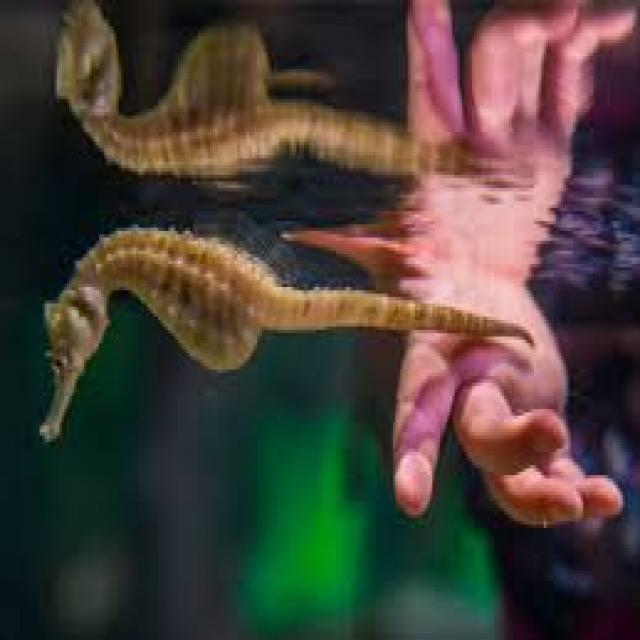SeaHorse: (39, 228, 534, 442)
